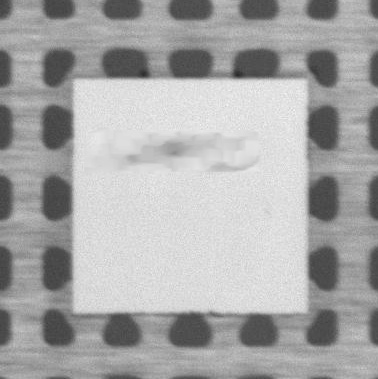DIE_INK: (80, 126, 261, 176)
